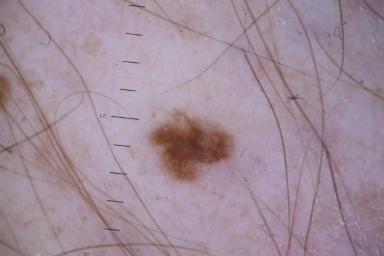melanoma: (152, 111, 231, 180)
